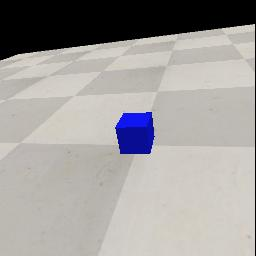box: (115, 112, 155, 154)
